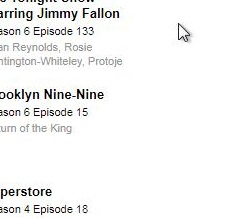cursor: (176, 21, 190, 44)
